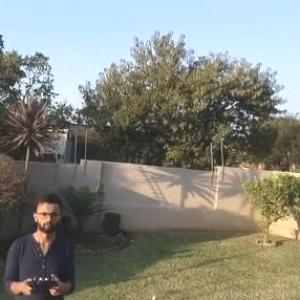follow: (0, 189, 80, 299)
